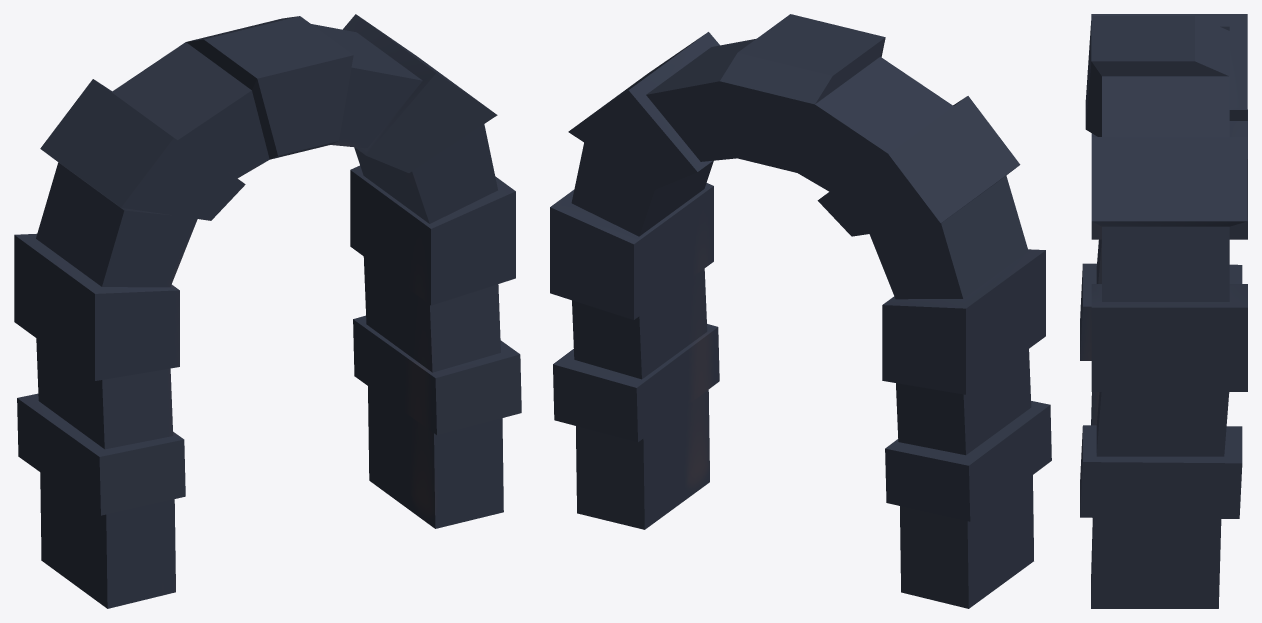
Rendered from DungeonDoorFRAME.fbx.
3 views of the same model, side by side, from view 1: azimuth 30°, elevation 25°; view 2: azimuth 150°, elevation 25°; view 3: azimuth 270°, elevation 25° (orthographic). The views are drawn at different scales.
Visible parts, largest first — view 1: polySurface9; view 2: polySurface9; view 3: polySurface9.
Boxes of the visible parts, x1,y1,x2,y2 form: polySurface9: (14,14,521,608); polySurface9: (550,14,1051,608); polySurface9: (1080,14,1247,608).
Bounding box in the file's own units: 143 × 160 × 51.12.
